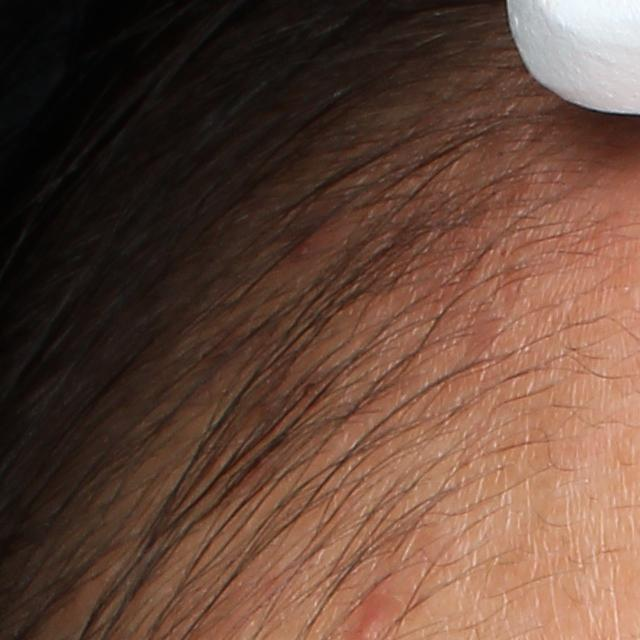papule: (289, 219, 325, 262)
